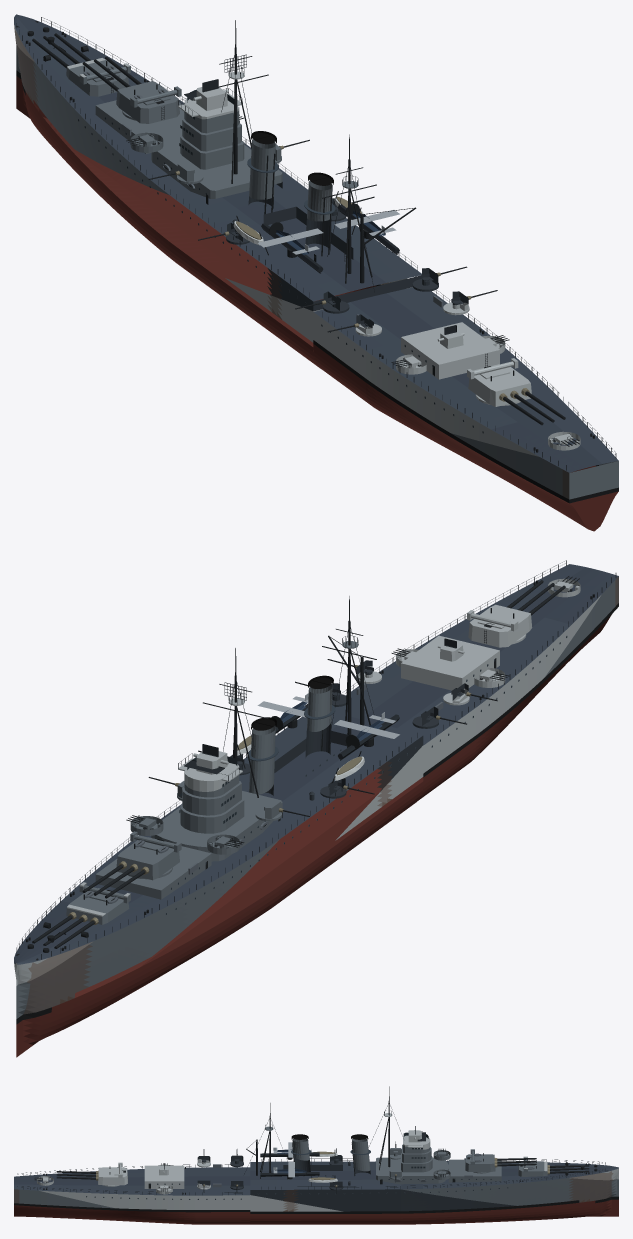
The model's file is northampton_m22.glb.
3 views of the same model, one above another, from view 1: azimuth 30°, elevation 25°; view 2: azimuth 150°, elevation 25°; view 3: azimuth 270°, elevation 25° (orthographic). The views are drawn at different scales.
Visible parts, largest first — view 1: Hull, Turret2, Turret3, Turret1, Float2, Director, Float1; view 2: Hull, Turret3, Turret2, Turret1, Float2, Director; view 3: Hull, Turret3, Turret2, Turret1, Float1.
Part boxes in pixels (bbox=[...]): Hull: bbox=[14, 14, 618, 531]; Turret2: bbox=[82, 56, 181, 123]; Turret3: bbox=[467, 358, 565, 425]; Turret1: bbox=[32, 33, 130, 96]; Float2: bbox=[258, 222, 323, 255]; Director: bbox=[193, 79, 228, 110]; Float1: bbox=[334, 203, 399, 236]; Hull: bbox=[14, 560, 618, 1057]; Turret3: bbox=[467, 580, 565, 647]; Turret2: bbox=[82, 831, 181, 898]; Turret1: bbox=[32, 882, 130, 948]; Float2: bbox=[334, 712, 399, 749]; Director: bbox=[193, 744, 228, 774]; Hull: bbox=[14, 1086, 618, 1224]; Turret3: bbox=[56, 1162, 127, 1186]; Turret2: bbox=[465, 1149, 536, 1173]; Turret1: bbox=[518, 1156, 589, 1176]; Float1: bbox=[273, 1162, 306, 1177].
Size of the model in its own units: 32.2 by 43.54 by 183.
